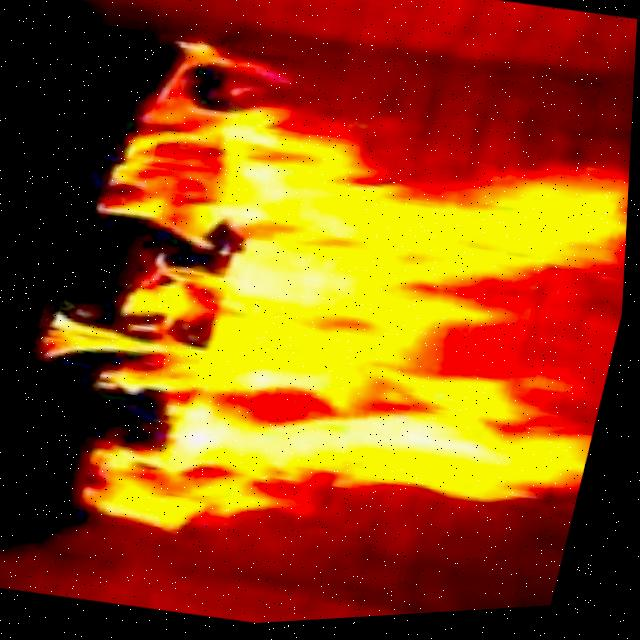Fire: (10, 4, 639, 618)
